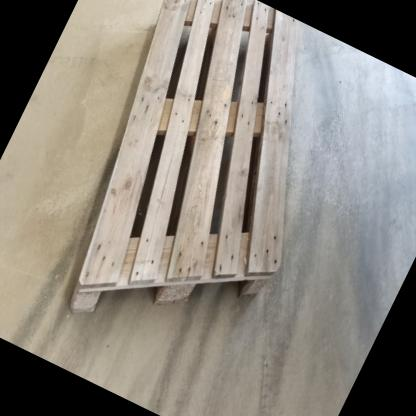BoxFace: (60, 0, 300, 323)
